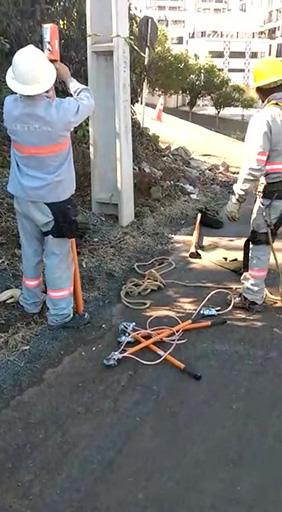Detector_Tensao_Contato: (39, 22, 62, 64)
